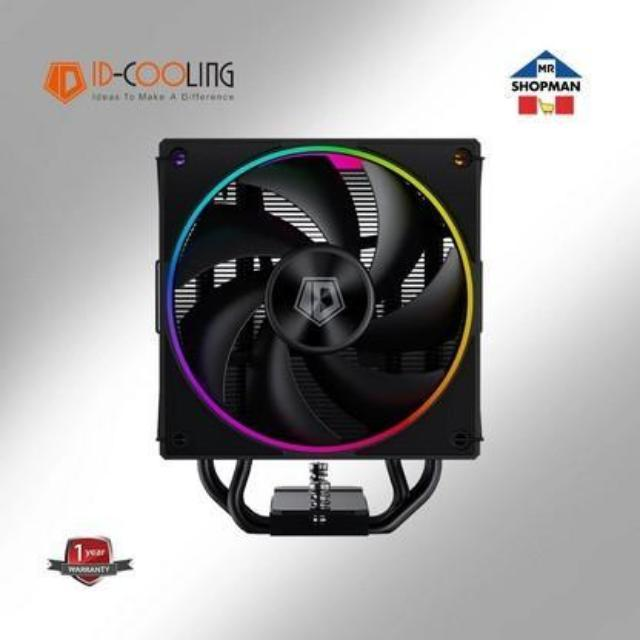CPU_Fan: (158, 136, 482, 541)
